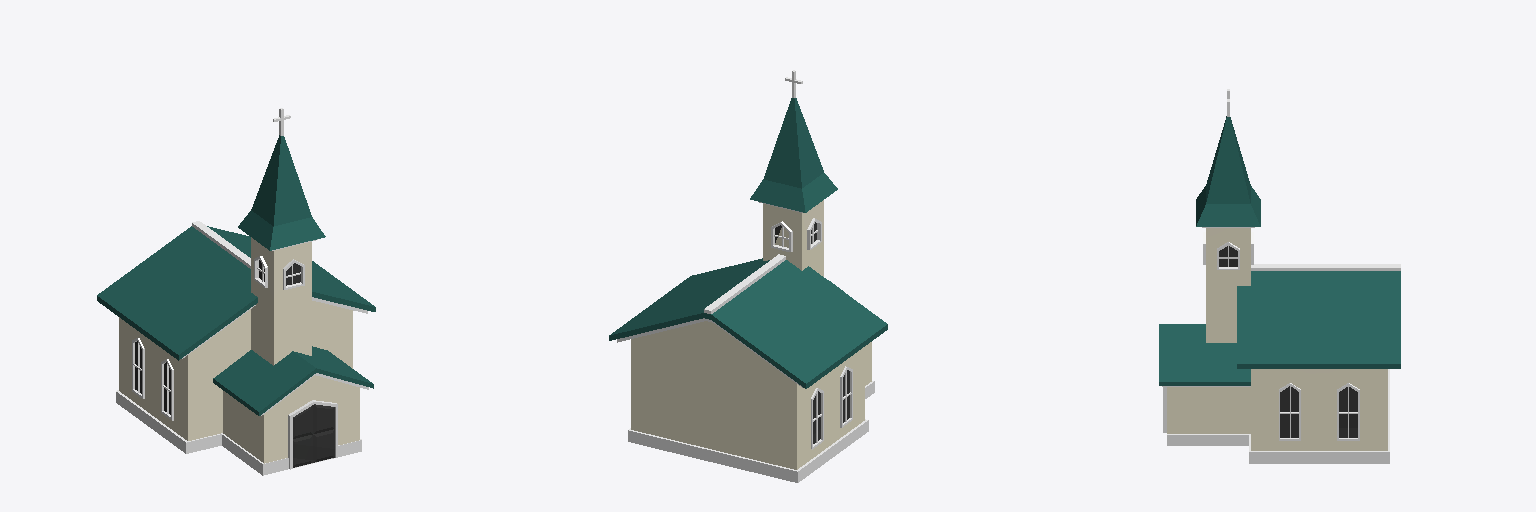
3 views of the same model, side by side, from view 1: azimuth 30°, elevation 25°; view 2: azimuth 150°, elevation 25°; view 3: azimuth 270°, elevation 25° (orthographic).
Visible parts, largest first — view 1: Cube.003_Cube.001; view 2: Cube.003_Cube.001; view 3: Cube.003_Cube.001.
Part boxes in pixels (x1,y1,x2,y2): Cube.003_Cube.001: (97, 108, 375, 475); Cube.003_Cube.001: (609, 70, 887, 482); Cube.003_Cube.001: (1159, 89, 1400, 463).
Bounding box in the file's own units: 18.98 × 30.53 × 20.16.
1 materials, 1 textured.